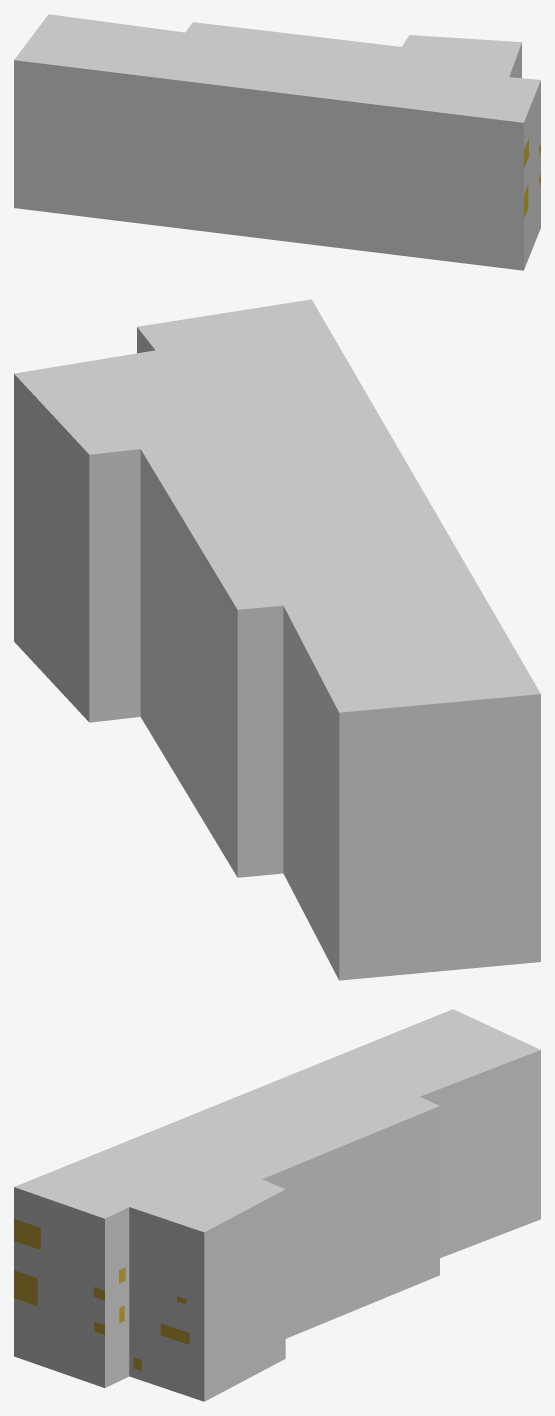
Rendered from bldg_c32f3923-8f2c-4626-868f-60ac79aa9b96.obj.
3 renders of one model, top to bottom at view 1: azimuth 30°, elevation 25°; view 2: azimuth 150°, elevation 25°; view 3: azimuth 270°, elevation 25°, orthographic. The views are drawn at different scales.
Bounding box in the file's own units: 34.8 × 12.32 × 34.71.
